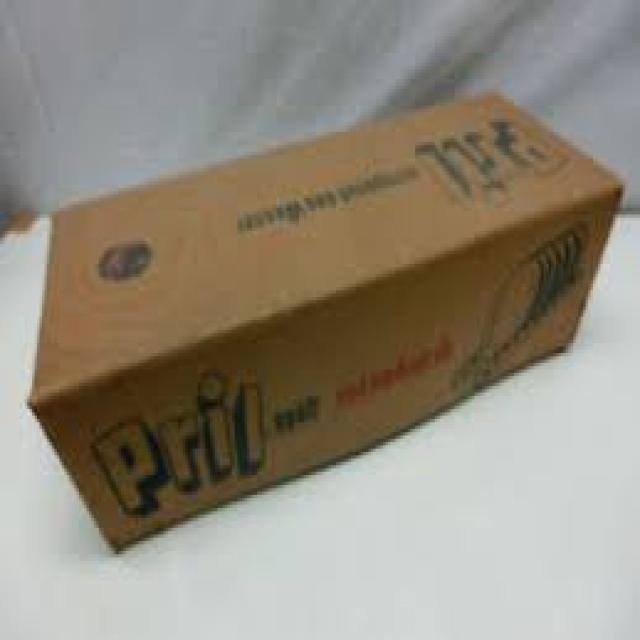Cardboard: (28, 83, 622, 563)
